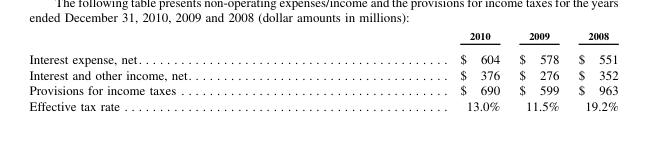table: (28, 29, 617, 112)
table column: (28, 29, 325, 112), (325, 29, 508, 112), (508, 29, 568, 112), (568, 29, 617, 112)
table column header: (28, 29, 617, 46)
table row: (28, 46, 617, 66), (28, 29, 617, 46), (28, 66, 617, 82), (28, 82, 617, 97), (28, 97, 617, 112)
